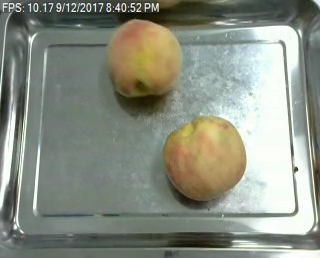Peach: (163, 114, 247, 200), (107, 18, 181, 97)
